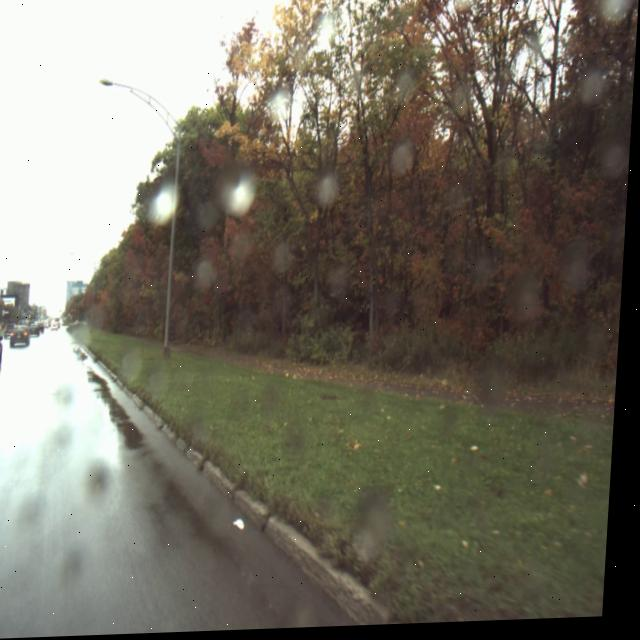car: (13, 327, 35, 348), (0, 326, 10, 370), (36, 322, 50, 339)
